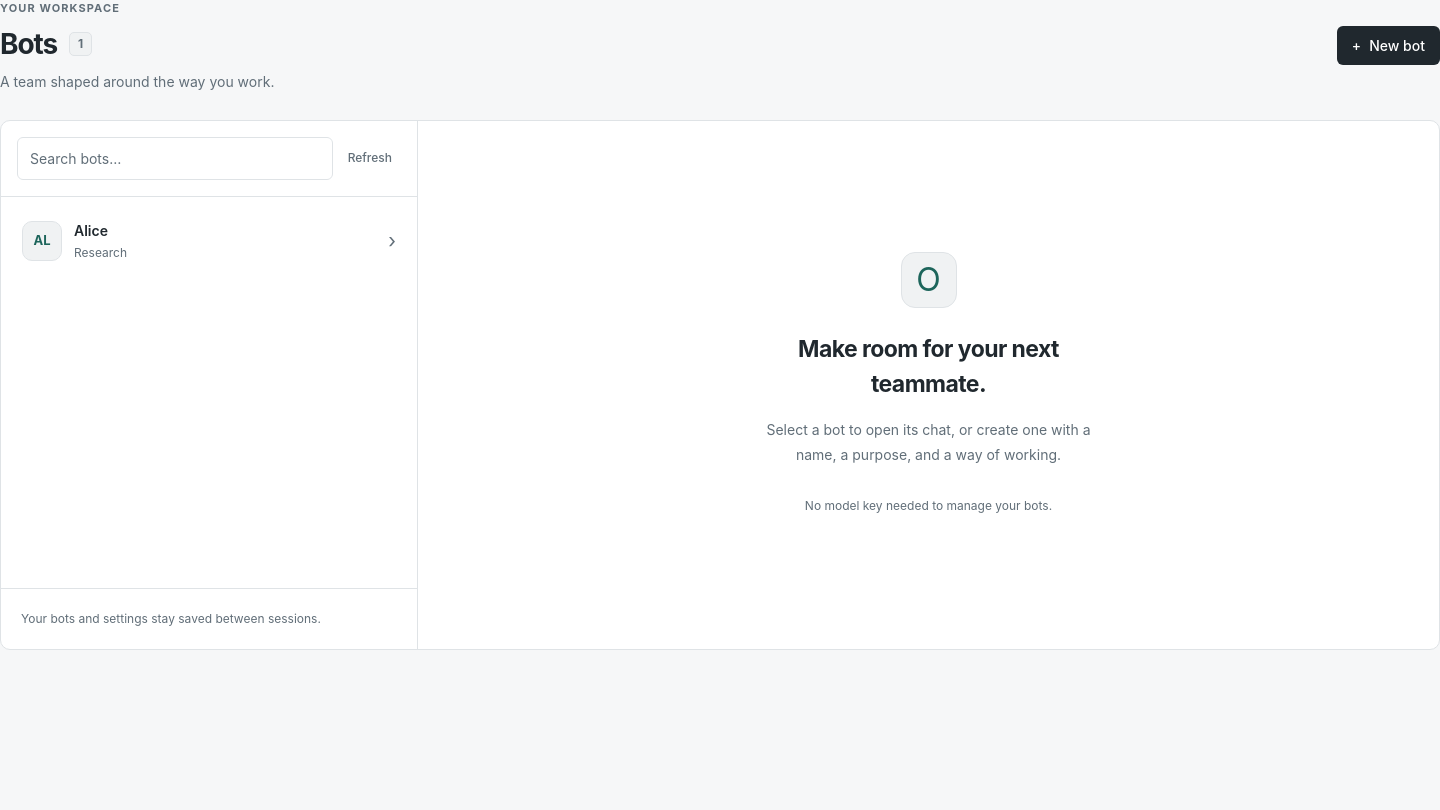
Scenario: bot management › shows the enabled sandbox details for a bot
The width and height of the screenshot is (1440, 810).
Click the button "AL Alice Research ›" at (42, 240), box [9,204,409,276]
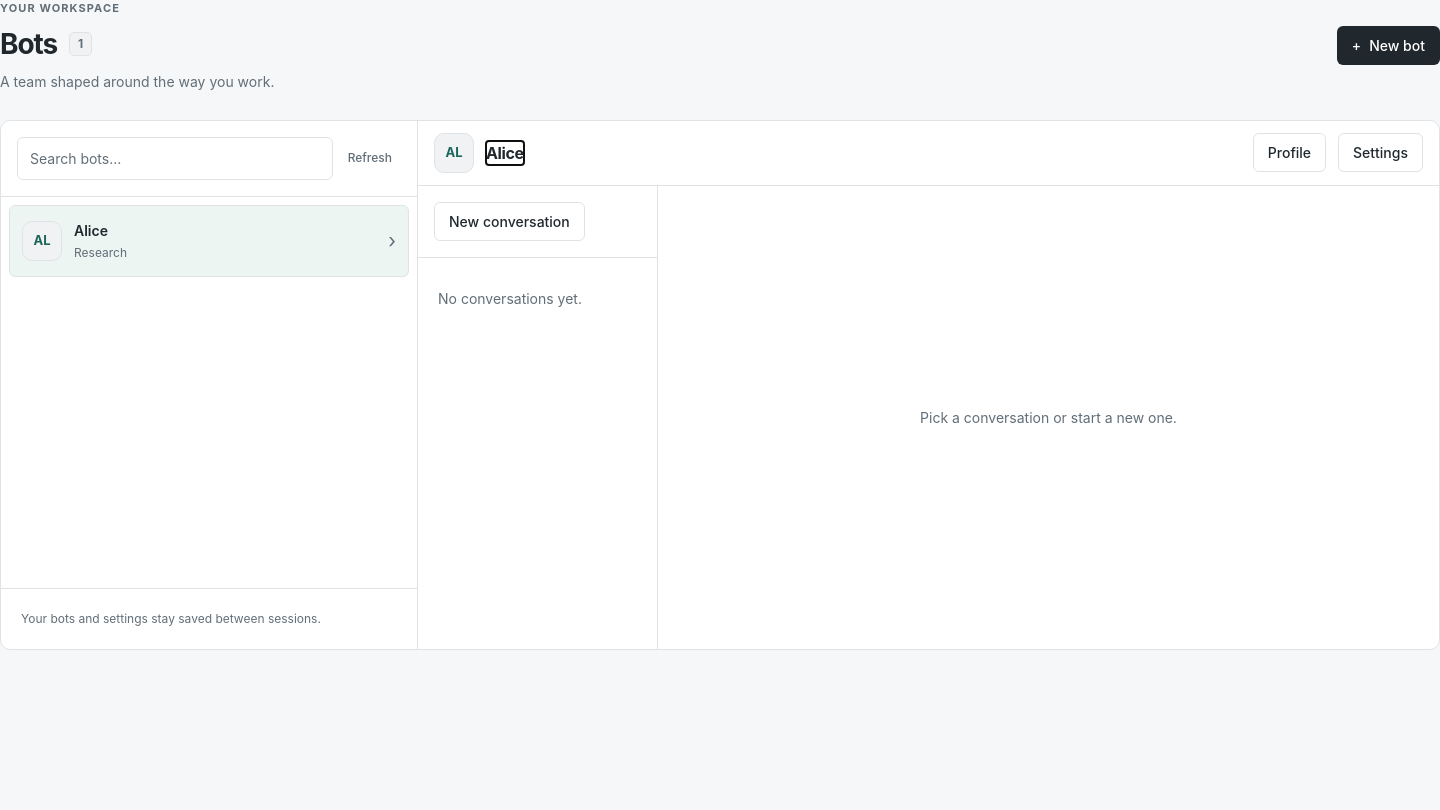
Click the button "Profile" at (1290, 152), box [1253,133,1326,172]
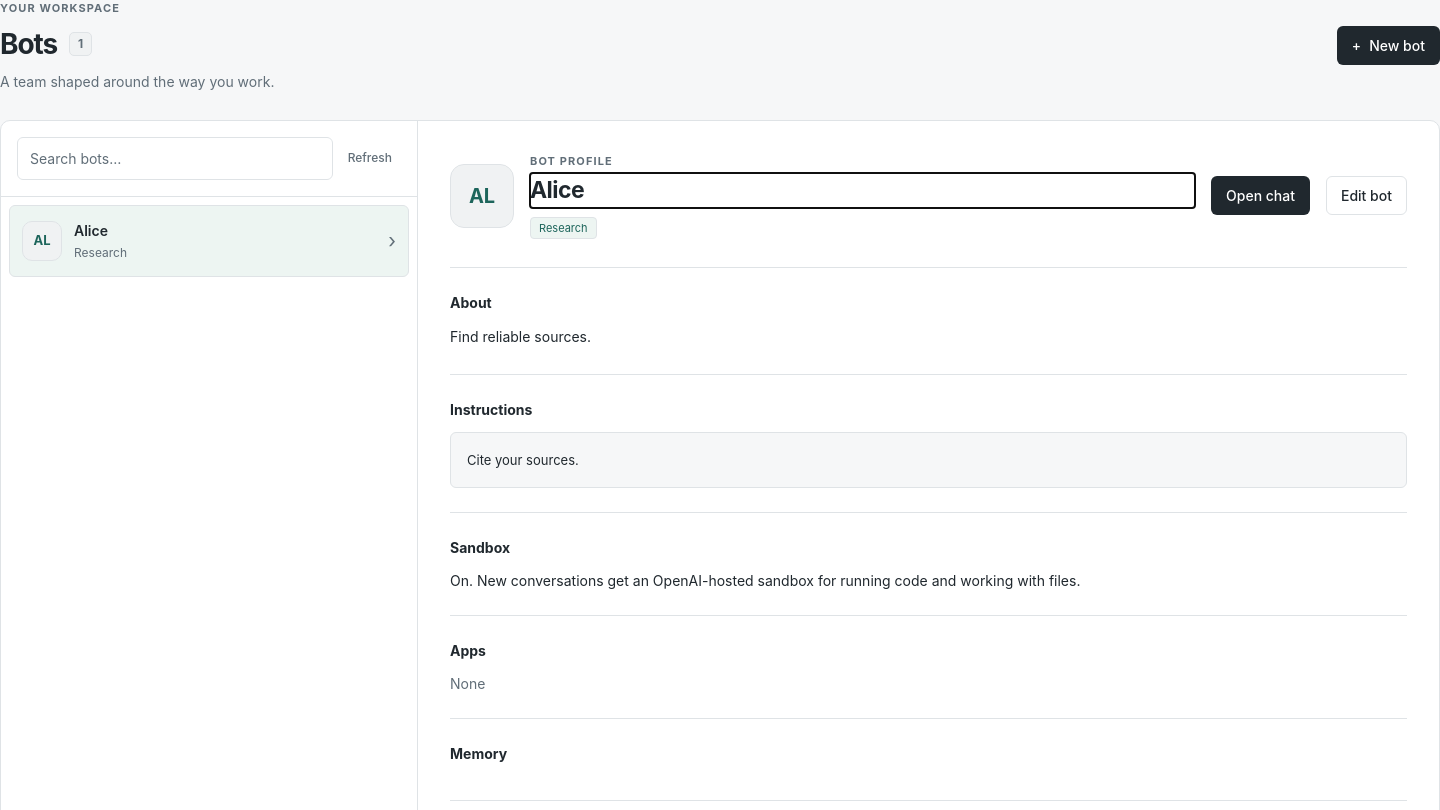
Expected: the text "On. New conversations get an OpenAI-hosted sandbox for running code and working with files." is shown, [450,572,1080,589]
